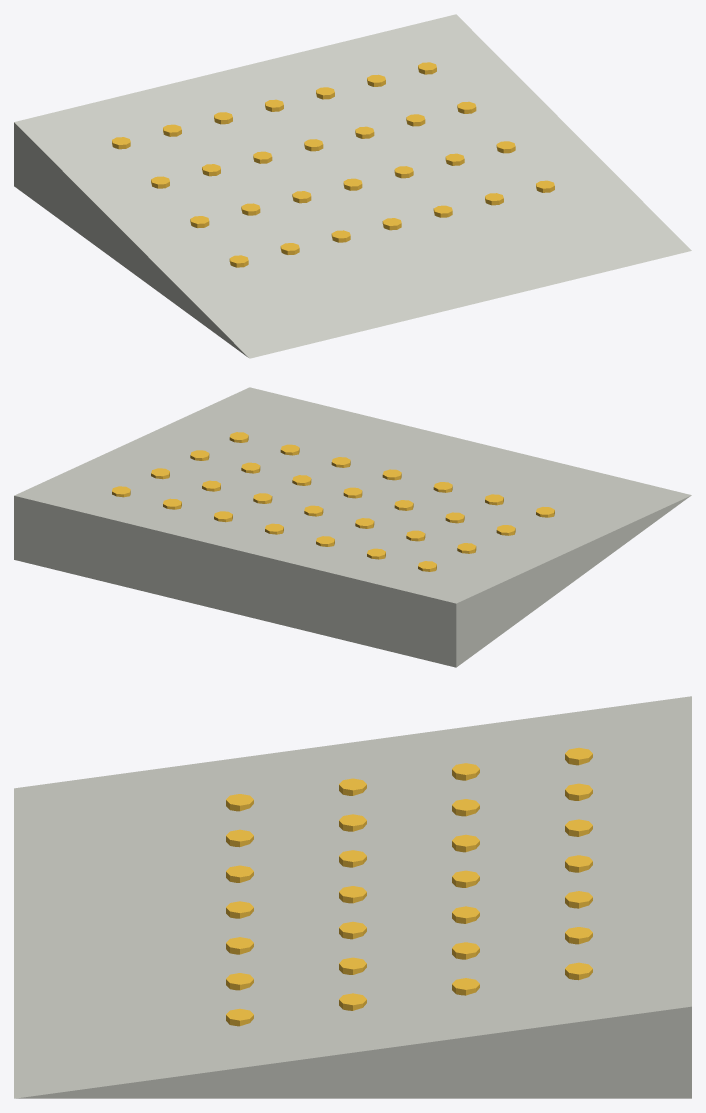
Rendered from Curb_Ramp.glb.
3 renders of one model, top to bottom at view 1: azimuth 30°, elevation 25°; view 2: azimuth 150°, elevation 25°; view 3: azimuth 270°, elevation 25°, orthographic. The views are drawn at different scales.
Visible parts, largest first — view 1: Curb_Ramp; view 2: Curb_Ramp; view 3: Curb_Ramp.
Part boxes in pixels (x1,y1,x2,y2): Curb_Ramp: [14, 14, 691, 358]; Curb_Ramp: [14, 387, 691, 667]; Curb_Ramp: [14, 696, 691, 1098].
Bounding box in the file's own units: 1.3 × 0.18 × 1.2.
